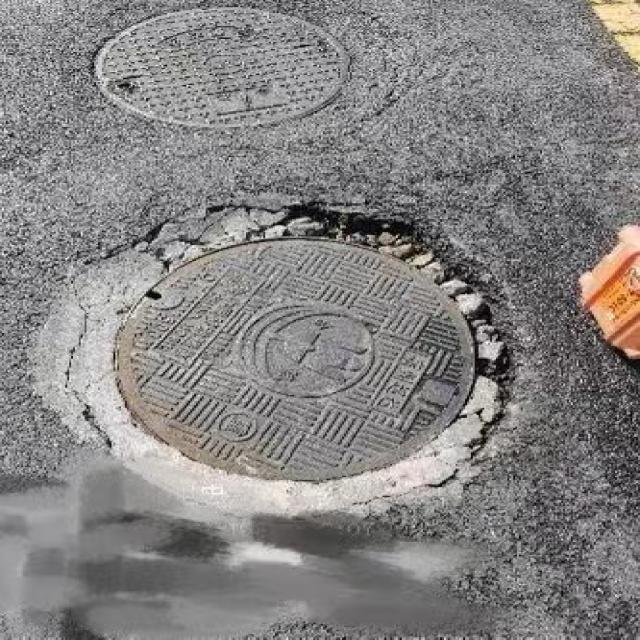Faulty: (38, 203, 510, 526)
Good: (84, 4, 353, 128)
